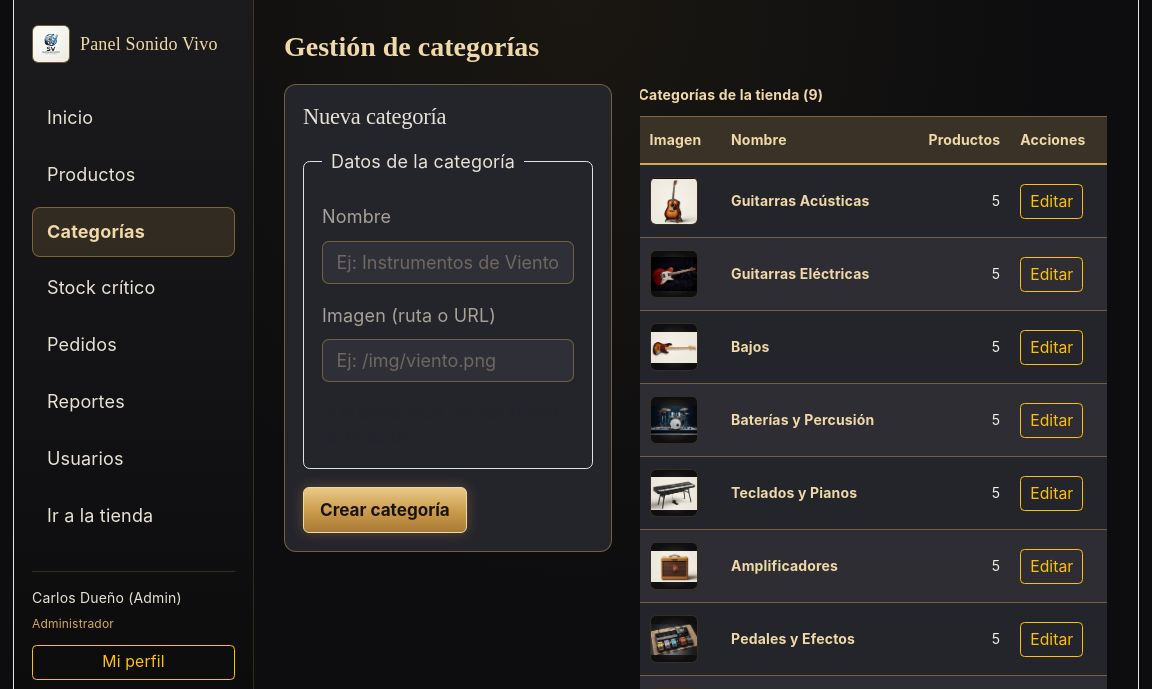
it: Página AdminCategorias › no permite crear una categoría repetida (409)
Type "Bajos" into the field labelled "Nombre" at (448,262), box [322, 241, 574, 284]
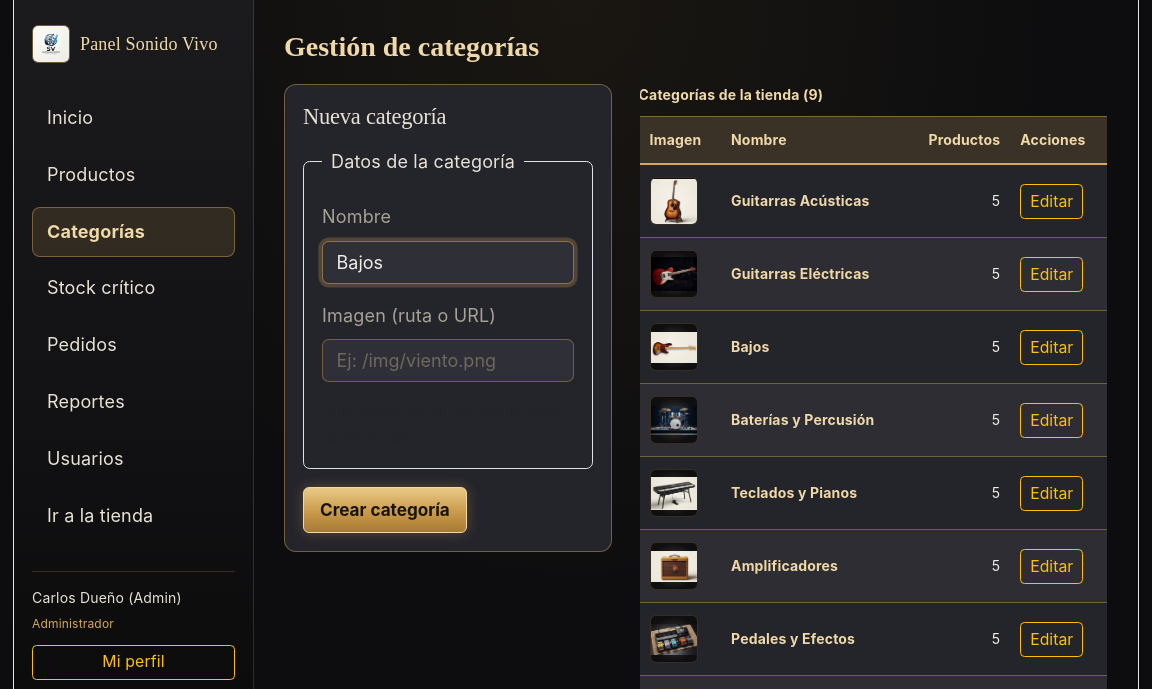
Click the button "Crear categoría" at (385,510), box [303, 487, 467, 533]
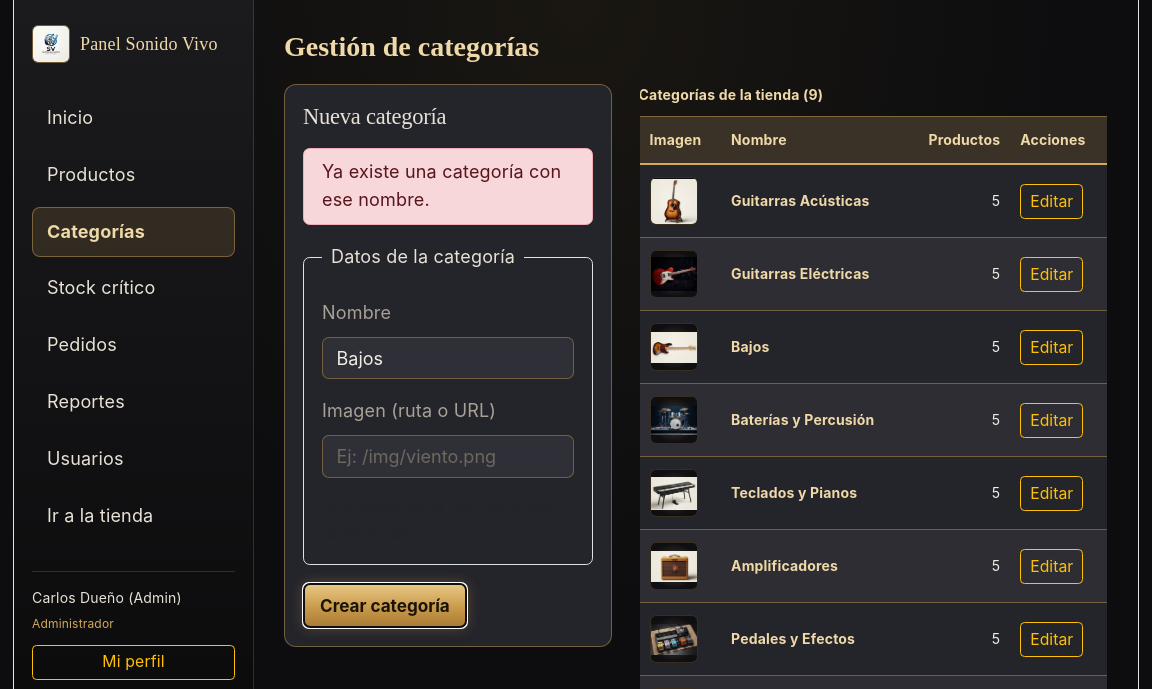
Now the text "Ya existe una categoría con ese nombre." is shown, box [303, 148, 593, 225]
